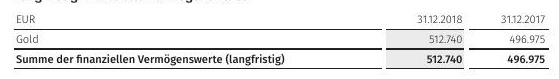table: (0, 0, 559, 79)
